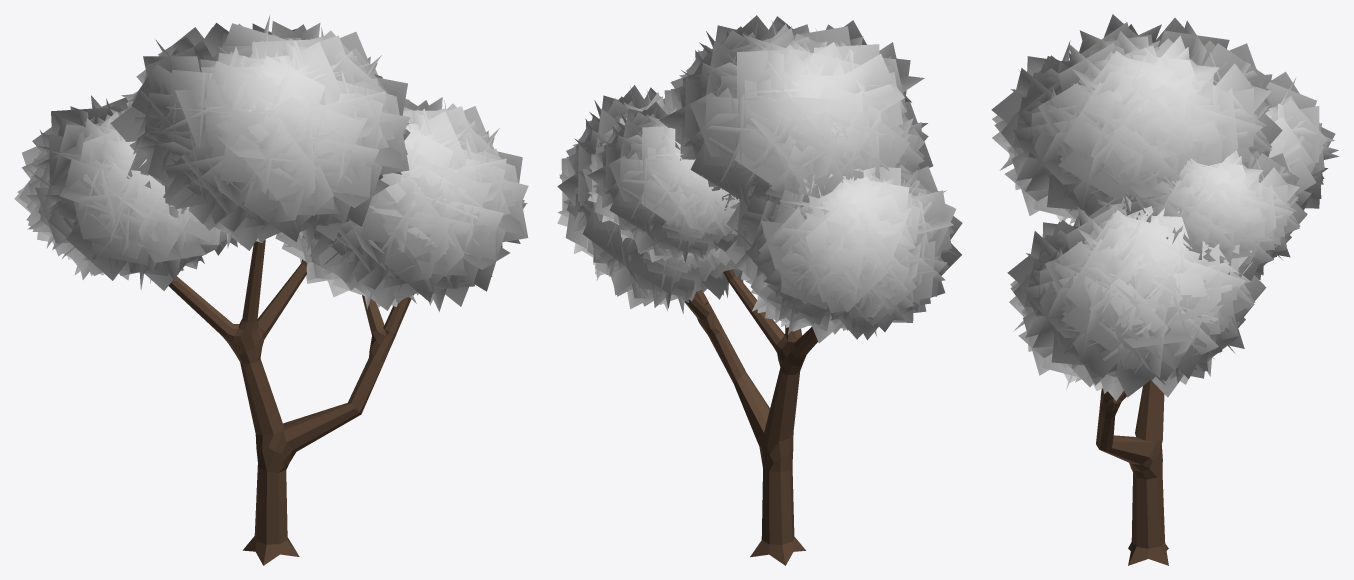
Rendered from testtree.fbx.
3 renders of one model, left to right at view 1: azimuth 30°, elevation 25°; view 2: azimuth 150°, elevation 25°; view 3: azimuth 270°, elevation 25°, orthographic. The views are drawn at different scales.
Visible parts, largest first — view 1: Plane.003; view 2: Plane.003; view 3: Plane.003.
Boxes of the visible parts, x1,y1,x2,y2 form: Plane.003: (14, 14, 528, 565); Plane.003: (557, 15, 962, 565); Plane.003: (991, 14, 1339, 565).
Size of the model in its own units: 1624 by 1909 by 1179.
